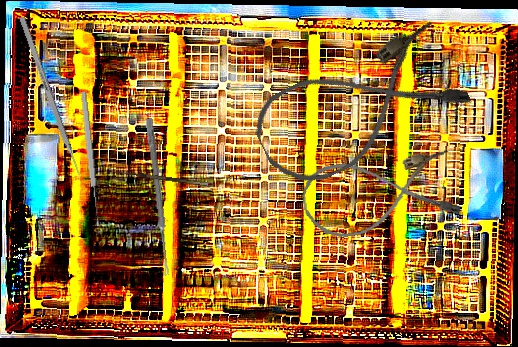Cannula: (244, 18, 474, 198), (298, 146, 462, 243)
Hook Surgical: (106, 168, 209, 192)
Pusher: (18, 16, 87, 189)
Surgical Spoon: (144, 118, 172, 276), (79, 91, 102, 227)
